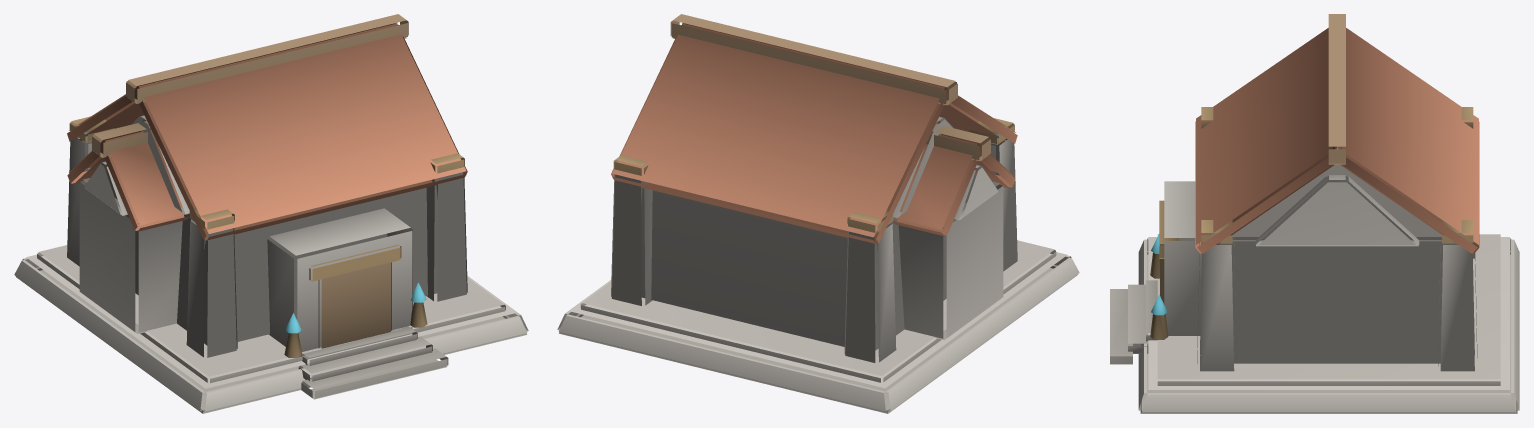
File: core_archive_townhall_lv1_lod2.glb
3 renders of one model, left to right at view 1: azimuth 30°, elevation 25°; view 2: azimuth 150°, elevation 25°; view 3: azimuth 270°, elevation 25°, orthographic.
Visible parts, largest first — view 1: core_archive_townhall_lv1.001; view 2: core_archive_townhall_lv1.001; view 3: core_archive_townhall_lv1.001.
Part boxes in pixels (box(x1,y1,x2,y2)): core_archive_townhall_lv1.001: box(14, 14, 528, 413); core_archive_townhall_lv1.001: box(557, 14, 1079, 413); core_archive_townhall_lv1.001: box(1110, 14, 1519, 413).
Size of the model in its own units: 4.71 by 3.4 by 4.99.
